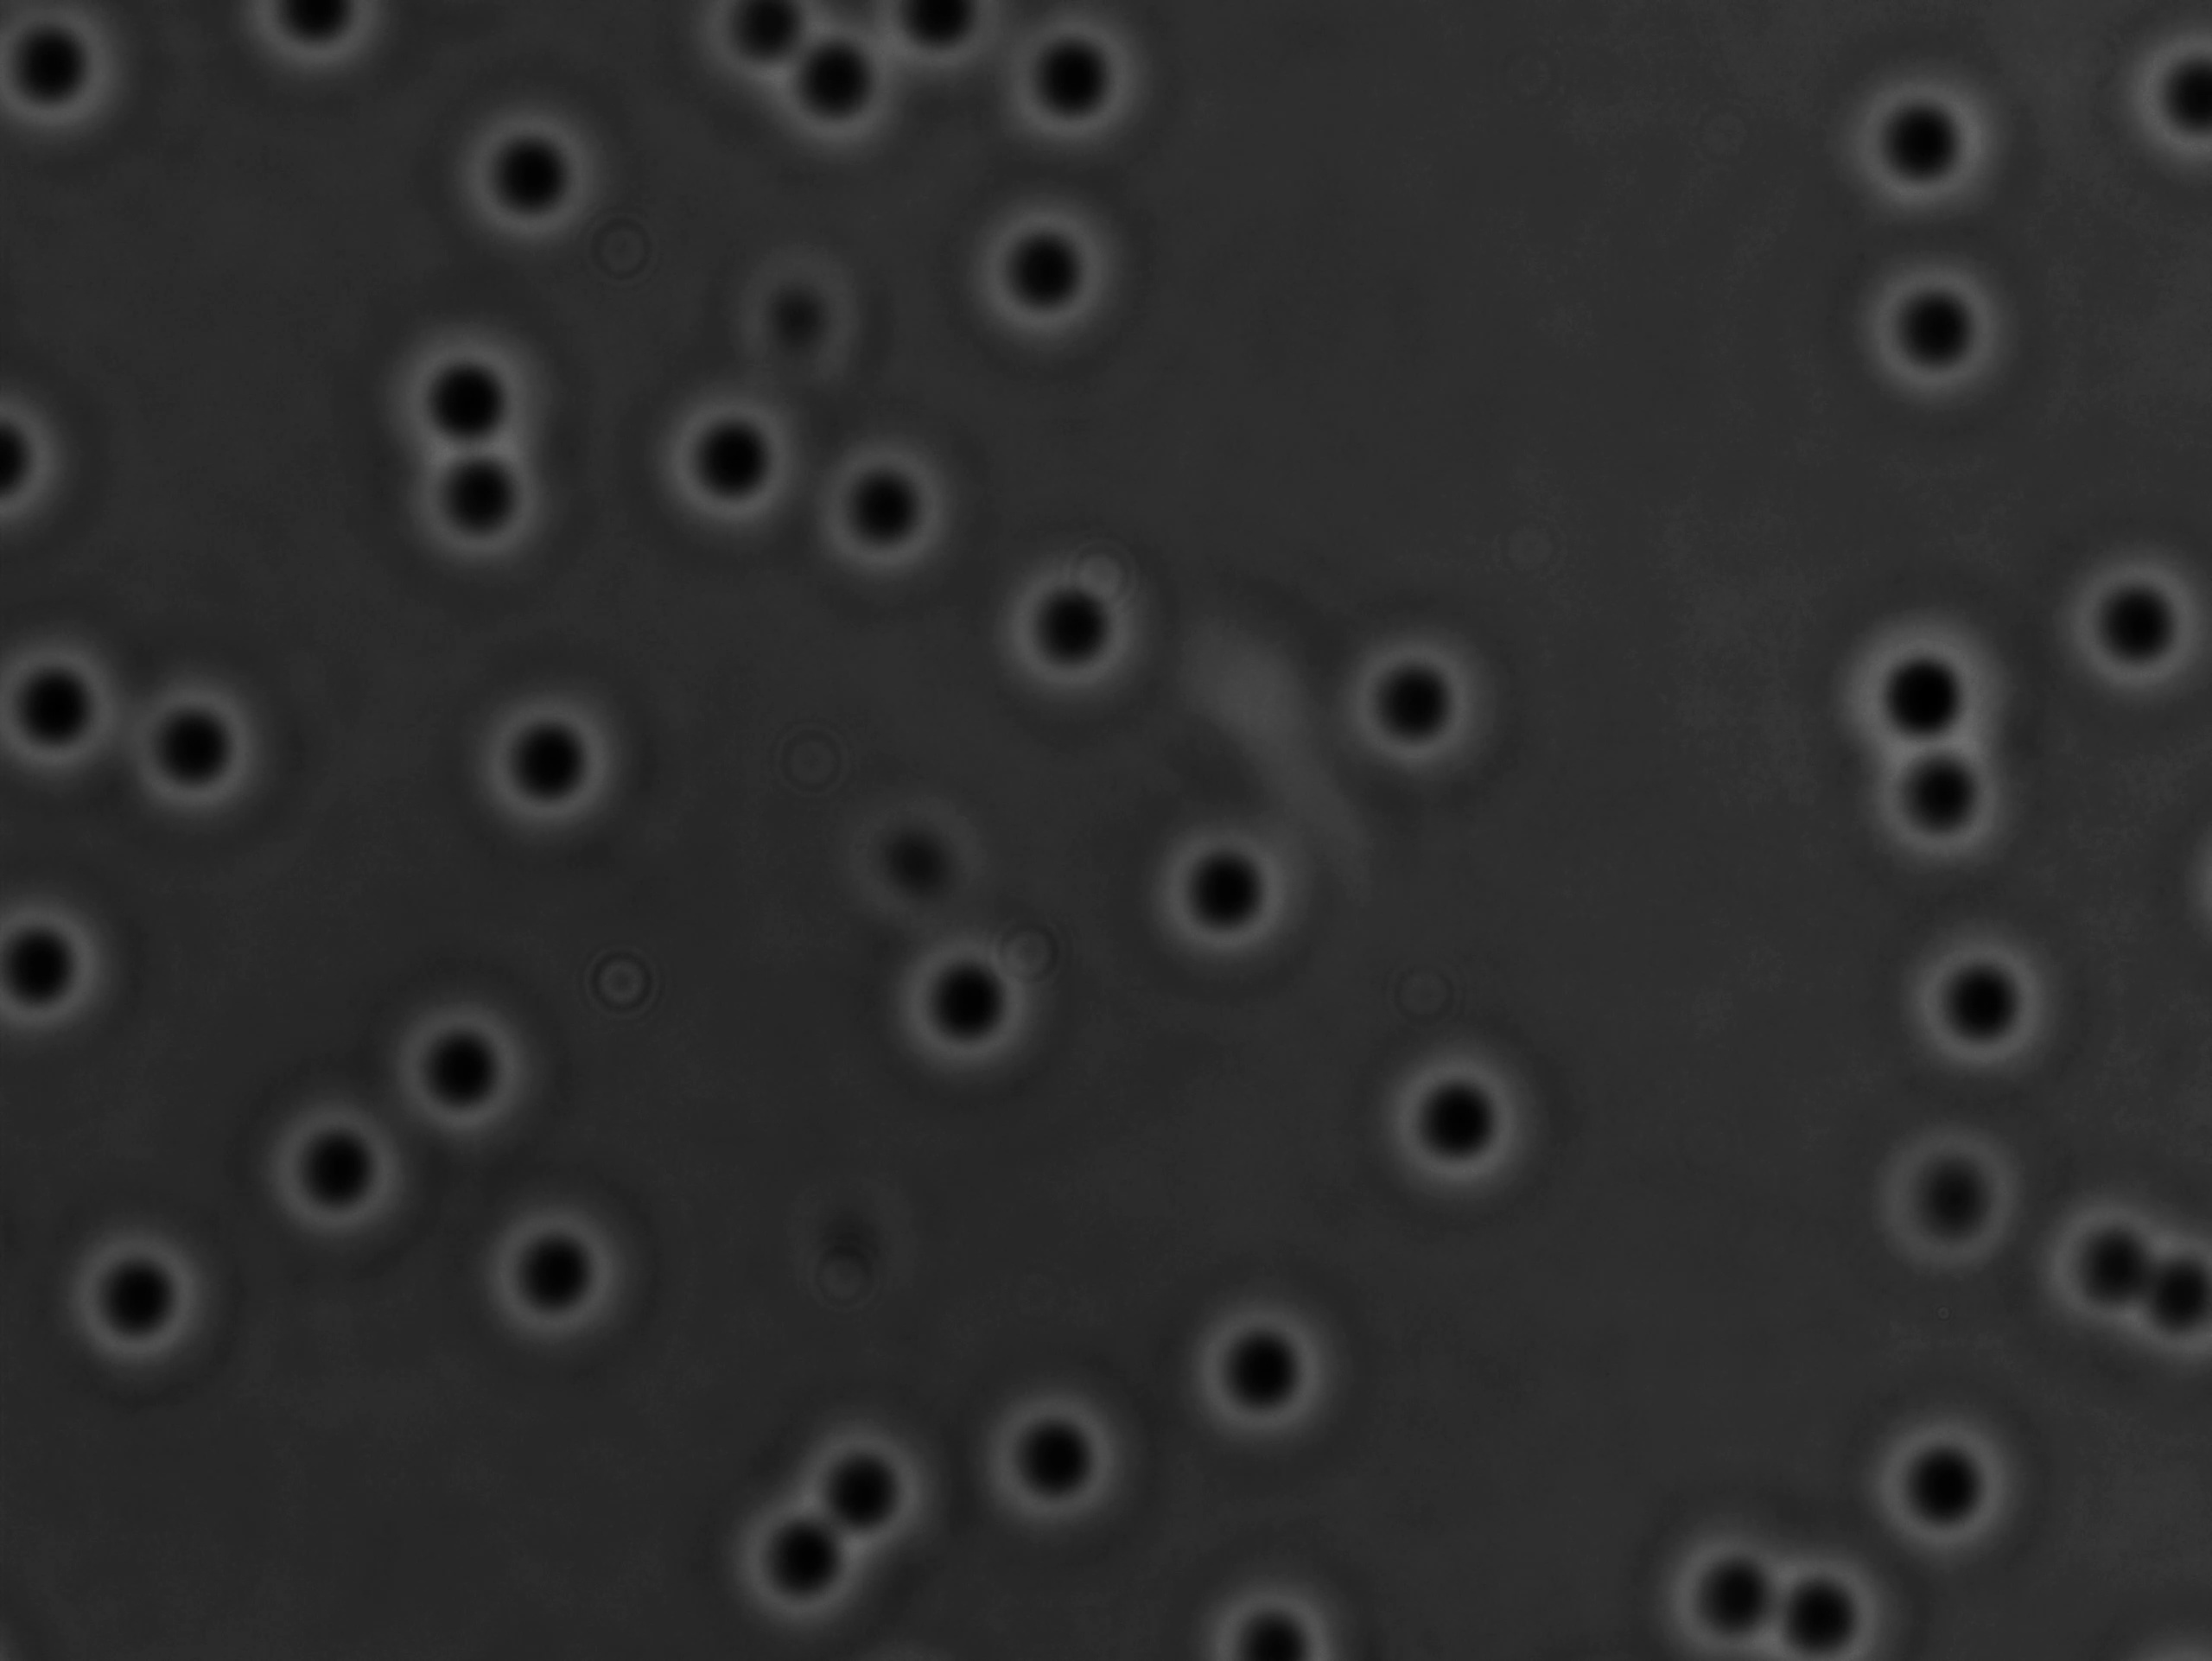depth:-80: (1348, 1019, 1568, 1235), (773, 1370, 996, 1572), (1813, 42, 2038, 243), (1833, 707, 2065, 899), (1814, 578, 2038, 776), (2029, 513, 2212, 752), (1879, 892, 2090, 1096), (926, 1349, 1139, 1551), (1169, 1265, 1387, 1462), (1830, 229, 2039, 433), (373, 956, 579, 1160), (963, 525, 1176, 722), (675, 1457, 893, 1649), (92, 640, 297, 841), (935, 183, 1150, 373), (1844, 1384, 2058, 1574), (1846, 1096, 2064, 1282), (38, 1200, 251, 1391), (1122, 803, 1328, 995), (429, 84, 637, 269), (466, 1181, 673, 1361), (234, 1070, 426, 1261), (361, 293, 565, 473), (455, 670, 654, 851), (1314, 616, 1505, 803), (877, 913, 1068, 1099), (645, 370, 839, 551), (797, 410, 979, 598), (389, 417, 581, 590)
